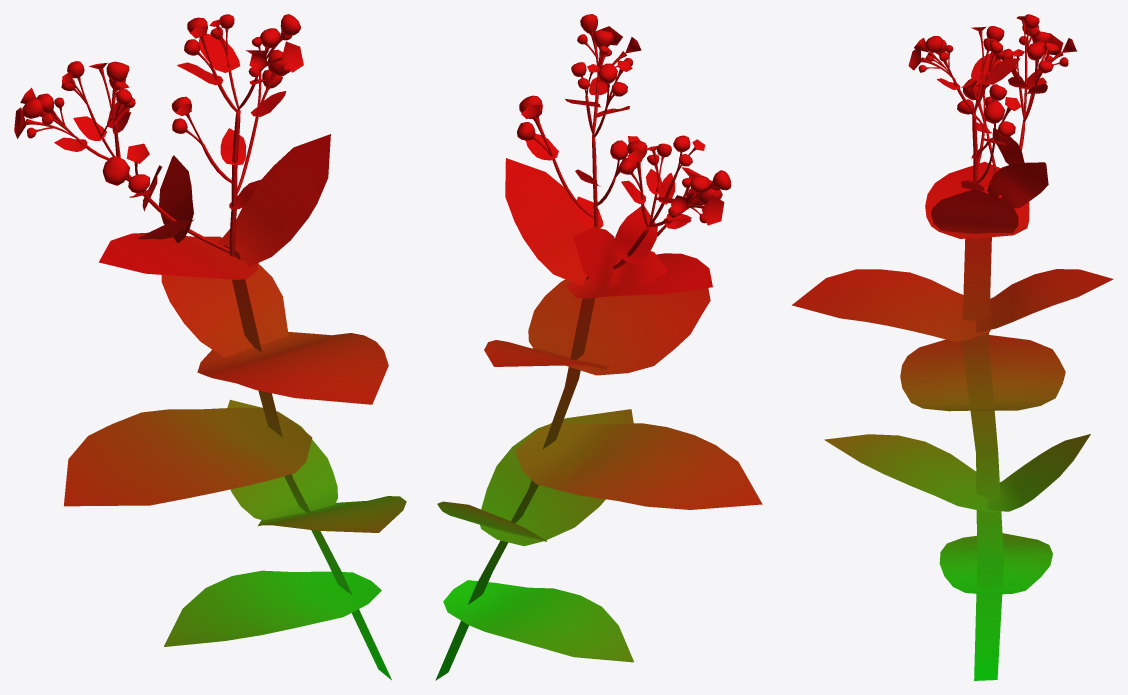
Rendered from Rubber Bush_LOD2_Var4_xffhfekia.fbx.
3 views of the same model, side by side, from view 1: azimuth 30°, elevation 25°; view 2: azimuth 150°, elevation 25°; view 3: azimuth 270°, elevation 25° (orthographic). The views are drawn at different scales.
Visible parts, largest first — view 1: _f5ms_Var4_LOD2; view 2: _f5ms_Var4_LOD2; view 3: _f5ms_Var4_LOD2.
Boxes of the visible parts, x1,y1,x2,y2 form: _f5ms_Var4_LOD2: [14, 14, 406, 680]; _f5ms_Var4_LOD2: [435, 14, 762, 680]; _f5ms_Var4_LOD2: [792, 14, 1113, 680].
Bounding box in the file's own units: 36 × 73.36 × 36.09.
